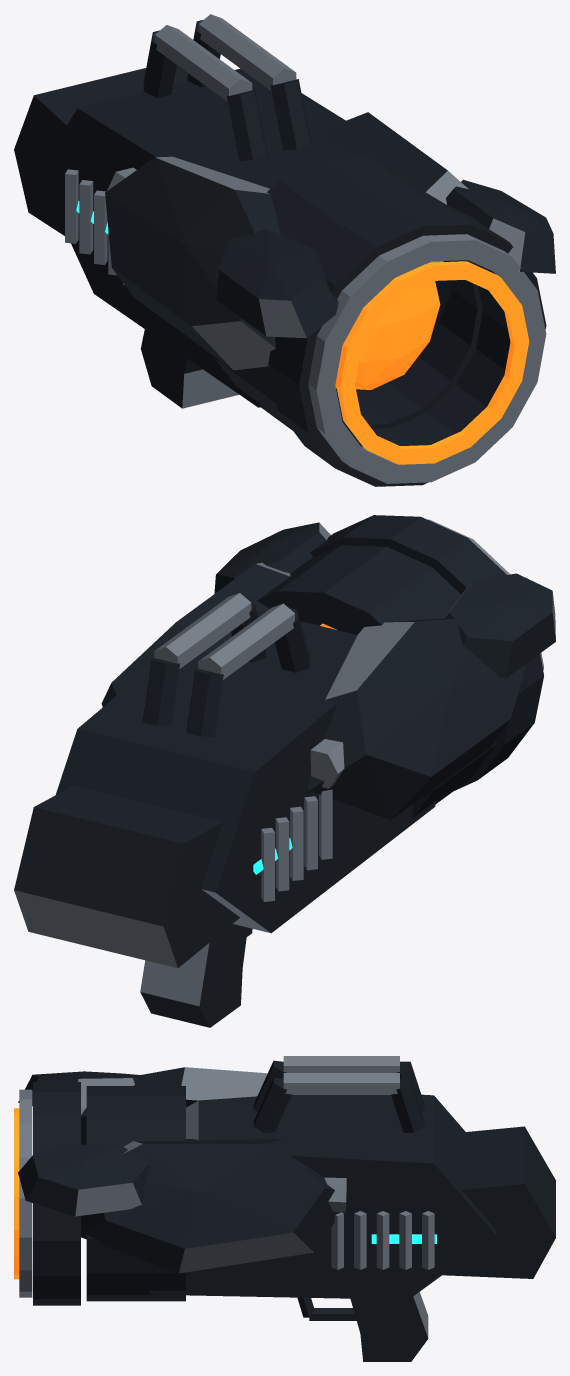
Rendered from EnergyLauncher_Final.fbx.
3 renders of one model, top to bottom at view 1: azimuth 30°, elevation 25°; view 2: azimuth 150°, elevation 25°; view 3: azimuth 270°, elevation 25°, orthographic. The views are drawn at different scales.
Visible parts, largest first — view 1: Barrel_Mesh, Receiver_Mesh, EnergyChamber_Mesh, Handle_Mesh, Stock_Mesh, Grip_Mesh; view 2: Receiver_Mesh, Barrel_Mesh, Stock_Mesh, Handle_Mesh, Grip_Mesh; view 3: Receiver_Mesh, Barrel_Mesh, Stock_Mesh, Handle_Mesh, Grip_Mesh, EnergyChamber_Mesh.
Part boxes in pixels (x1=…): Barrel_Mesh: x1=107, y1=158, x2=555, y2=486; Receiver_Mesh: x1=38, y1=68, x2=468, y2=407; EnergyChamber_Mesh: x1=335, y1=261, x2=529, y2=464; Handle_Mesh: x1=143, y1=14, x2=311, y2=161; Stock_Mesh: x1=14, y1=65, x2=187, y2=235; Grip_Mesh: x1=140, y1=329, x2=239, y2=408; Receiver_Mesh: x1=55, y1=562, x2=525, y2=933; Barrel_Mesh: x1=214, y1=515, x2=555, y2=817; Stock_Mesh: x1=14, y1=785, x2=239, y2=968; Handle_Mesh: x1=143, y1=593, x2=309, y2=736; Grip_Mesh: x1=140, y1=924, x2=252, y2=1027; Receiver_Mesh: x1=81, y1=1067, x2=496, y2=1299; Barrel_Mesh: x1=18, y1=1071, x2=346, y2=1305; Stock_Mesh: x1=442, y1=1126, x2=555, y2=1278; Handle_Mesh: x1=253, y1=1056, x2=424, y2=1133; Grip_Mesh: x1=297, y1=1292, x2=428, y2=1361; EnergyChamber_Mesh: x1=14, y1=1108, x2=19, y2=1279.
Bounding box in the file's own units: 0.3929 × 0.42 × 0.7213.
